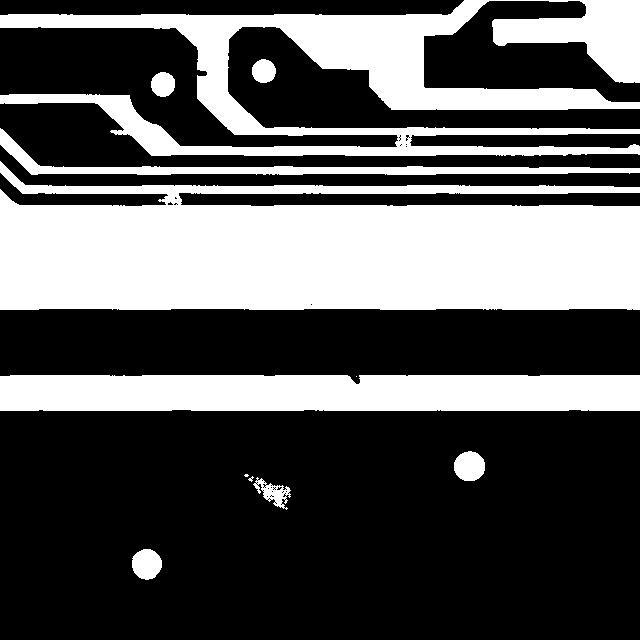mousebite: (100, 120, 141, 144)
open: (148, 182, 193, 222), (385, 121, 421, 157)
pin-hole: (234, 464, 300, 519)
spur: (334, 359, 369, 393), (181, 60, 216, 85)
